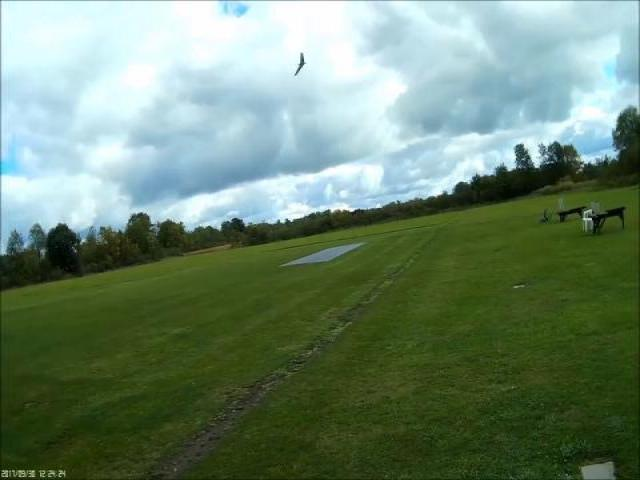flying wing: (292, 48, 309, 78)
